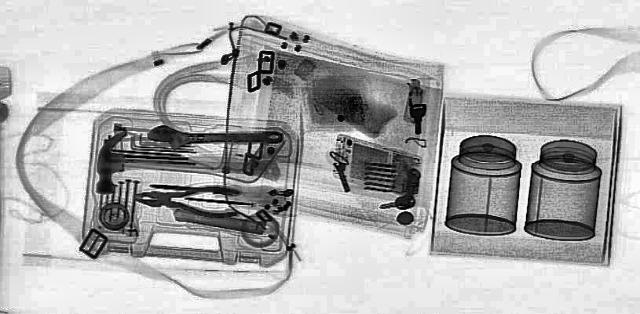Pliers: (128, 180, 245, 220)
Wrench: (146, 124, 280, 150)
